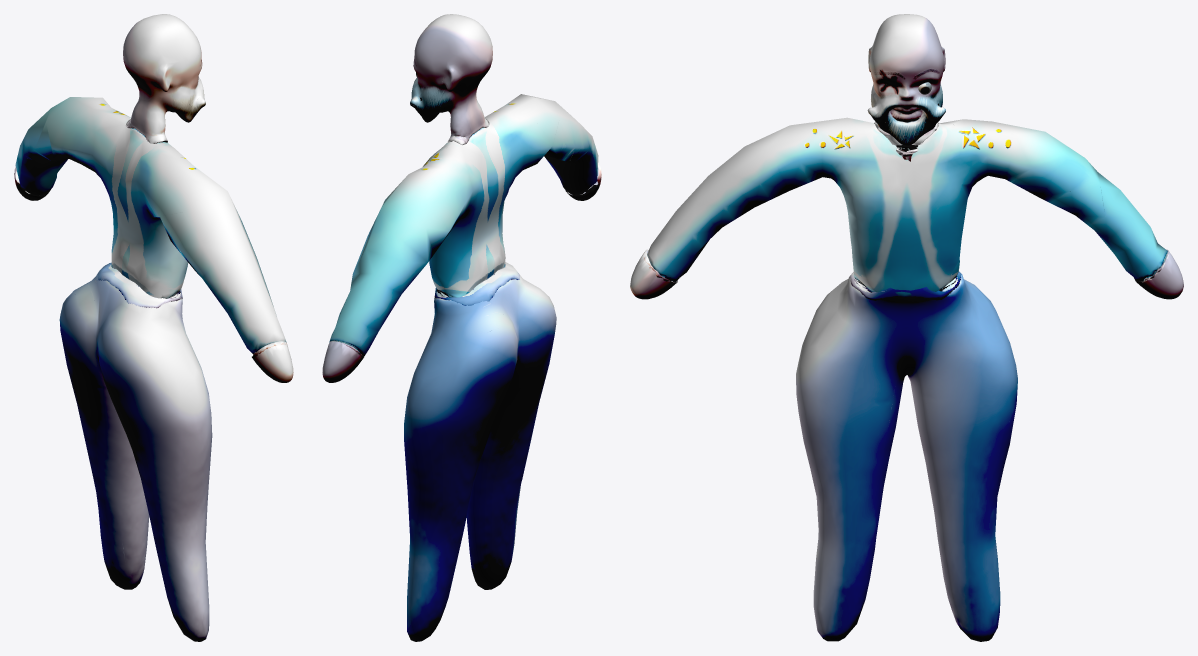
The model's file is captin.glb.
3 views of the same model, side by side, from view 1: azimuth 30°, elevation 25°; view 2: azimuth 150°, elevation 25°; view 3: azimuth 270°, elevation 25° (orthographic). The views are drawn at different scales.
Parts seen in each view (by area): view 1: Mesh_005.001, Mesh_004.001, Humanoid_002.001; view 2: Mesh_005.001, Mesh_004.001, Humanoid_002.001; view 3: Mesh_005.001, Mesh_004.001, Humanoid_002.001.
Boxes of the visible parts, x1,y1,x2,y2 form: Mesh_005.001: (59, 262, 212, 641); Mesh_004.001: (15, 97, 286, 354); Humanoid_002.001: (14, 14, 293, 382); Mesh_005.001: (404, 262, 556, 641); Mesh_004.001: (329, 94, 598, 356); Humanoid_002.001: (322, 14, 601, 382); Mesh_005.001: (796, 271, 1017, 641); Mesh_004.001: (647, 117, 1167, 297); Humanoid_002.001: (630, 14, 1183, 299).
Size of the model in its own units: 2.76 by 14.35 by 11.59.
Materials: 4 (4 with a texture image).
